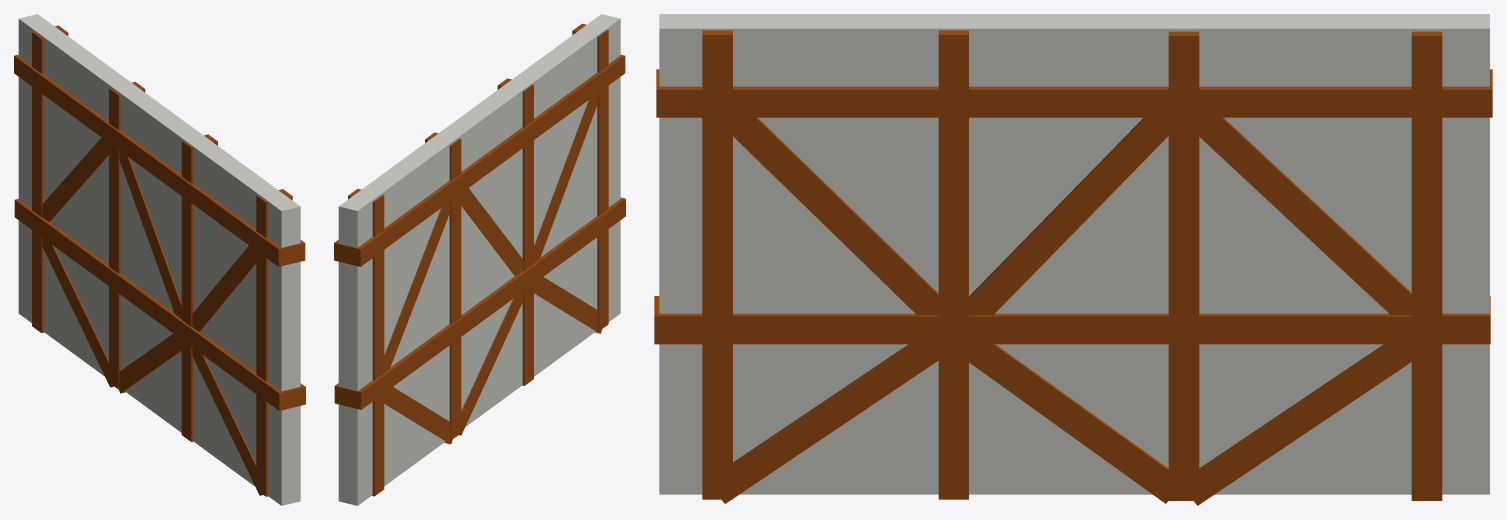
Rendered from NormalWall5.fbx.
3 renders of one model, left to right at view 1: azimuth 30°, elevation 25°; view 2: azimuth 150°, elevation 25°; view 3: azimuth 270°, elevation 25°, orthographic. The views are drawn at different scales.
Visible parts, largest first — view 1: NormalWall5; view 2: NormalWall5; view 3: NormalWall5.
Part boxes in pixels (<box>): NormalWall5: <box>14,14,305,505</box>; NormalWall5: <box>334,14,625,505</box>; NormalWall5: <box>654,14,1492,505</box>.
Size of the model in its own units: 113 by 1133 by 1810.
